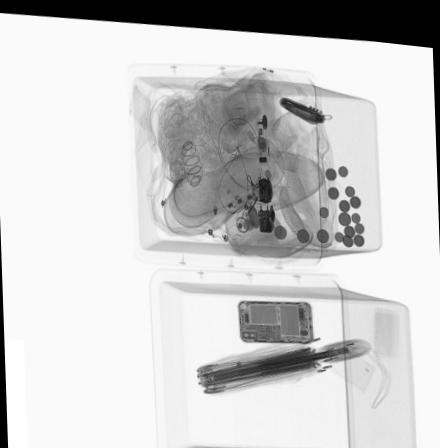Knife: (278, 88, 327, 118)
